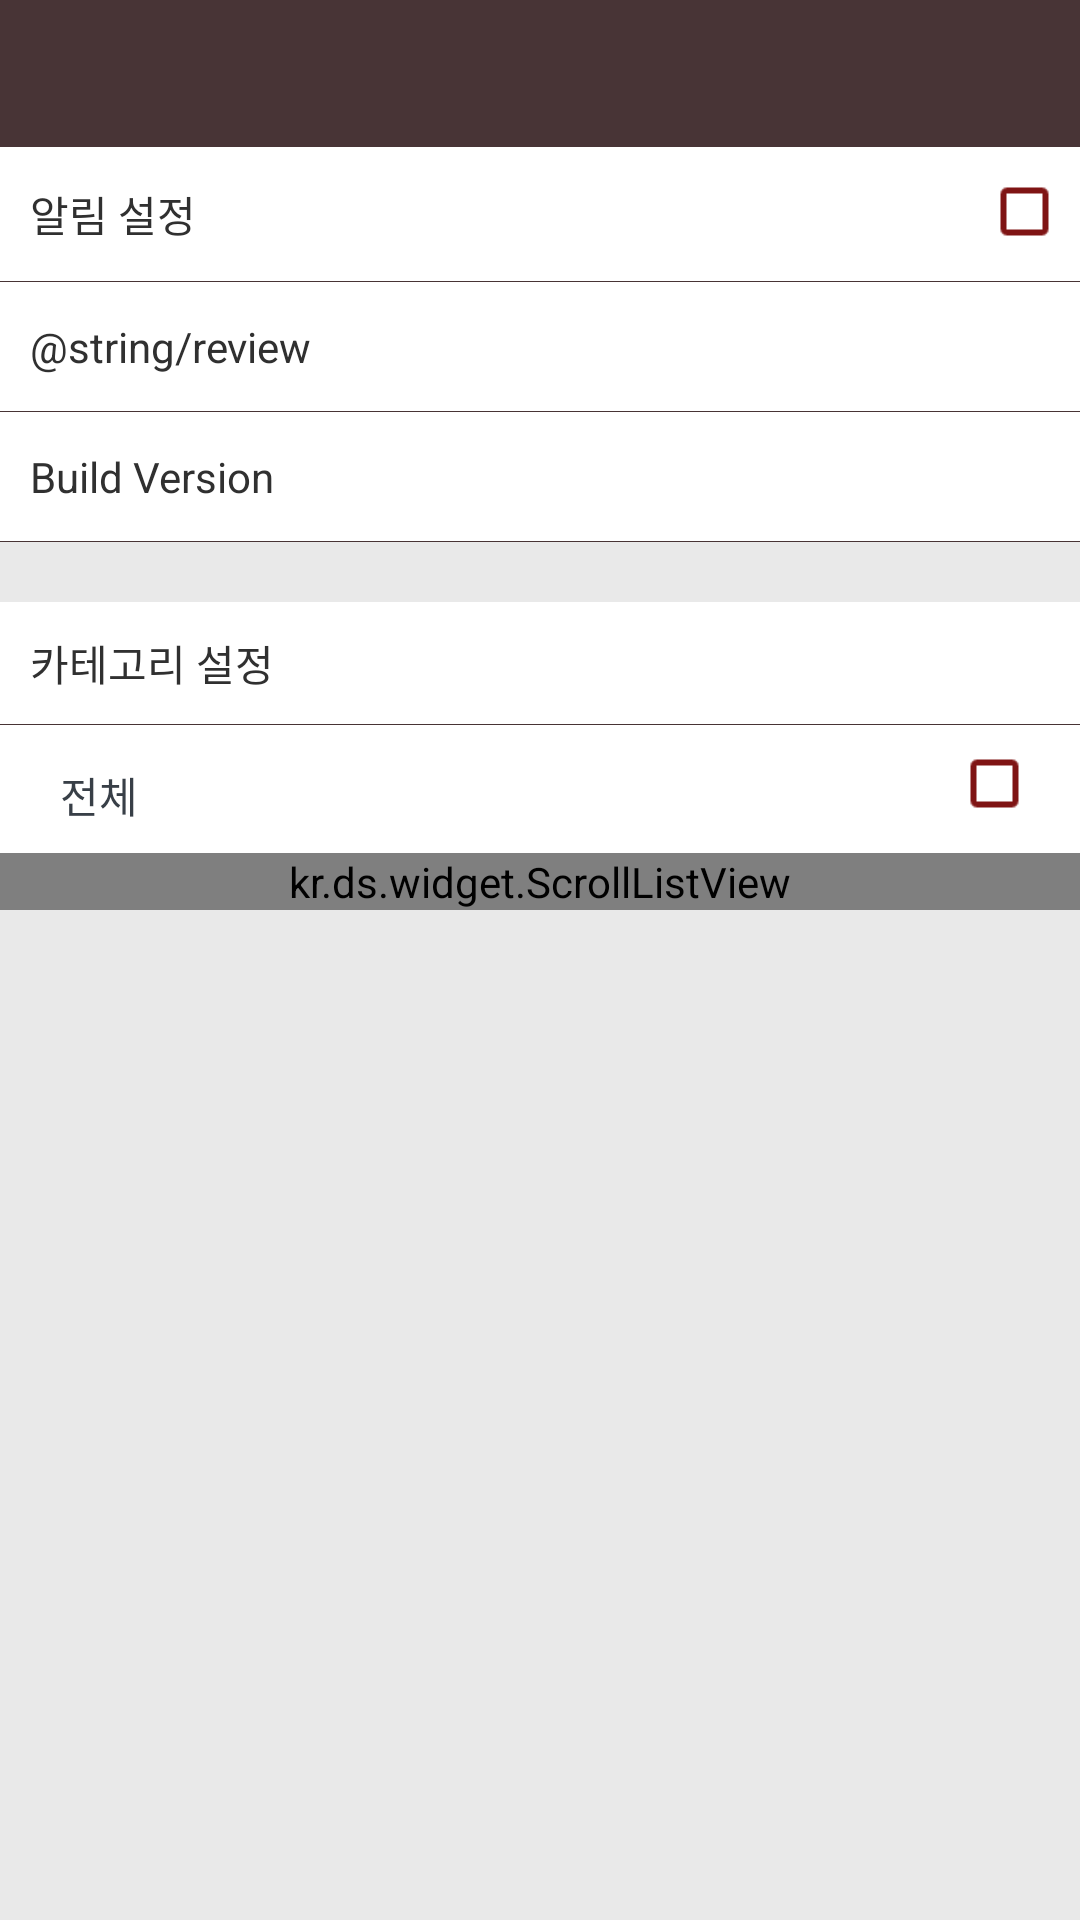

Where icons sit on this 1080 x 1920 app screen, as (x1, y1, x2, y2):
style checkbox: (1000, 187, 1049, 236), (970, 759, 1019, 808)
